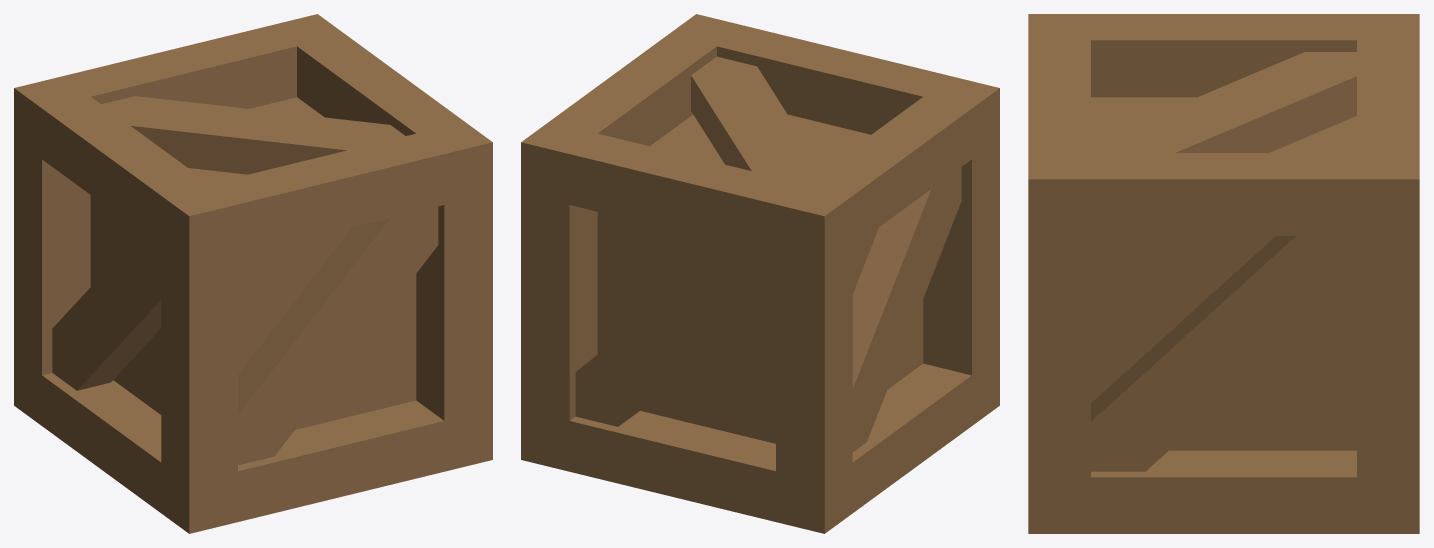
The model's file is Crate.glb.
3 renders of one model, left to right at view 1: azimuth 30°, elevation 25°; view 2: azimuth 150°, elevation 25°; view 3: azimuth 270°, elevation 25°, orthographic. The views are drawn at different scales.
Visible parts, largest first — view 1: Crate; view 2: Crate; view 3: Crate.
Boxes of the visible parts, bbox=[...] form: Crate: bbox=[14, 14, 492, 533]; Crate: bbox=[521, 14, 999, 533]; Crate: bbox=[1028, 14, 1419, 533].
Size of the model in its own units: 1 by 1 by 1.
